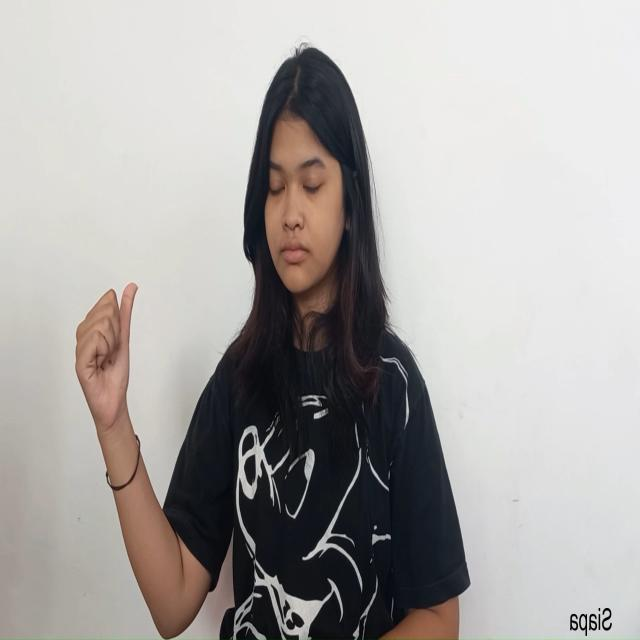Siapa -BISINDO-: (74, 274, 140, 442)
